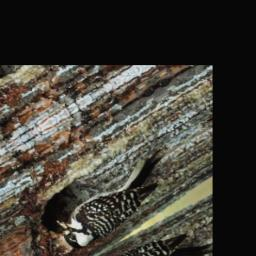Woodpecker: (48, 147, 182, 256)
